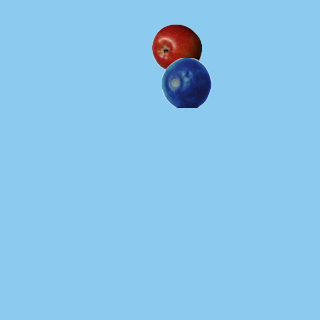Apple Braeburn: (151, 23, 201, 73)
Huckleberry: (161, 57, 211, 107)
